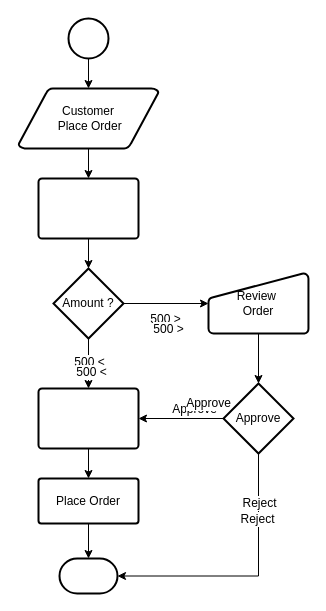
Image size: 326x611. Some labels were removed from this diagram. Here are the shapes that lost their labels. From the top down, the centre of each, then its label:
point 88,208: Generate Invoice
point 88,418: Locate Warehouse
point 88,575: End
